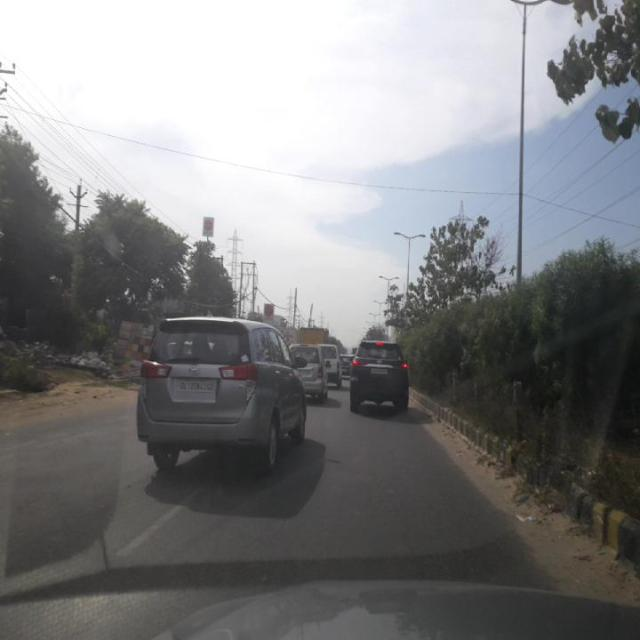D20: (7, 450, 530, 574)
